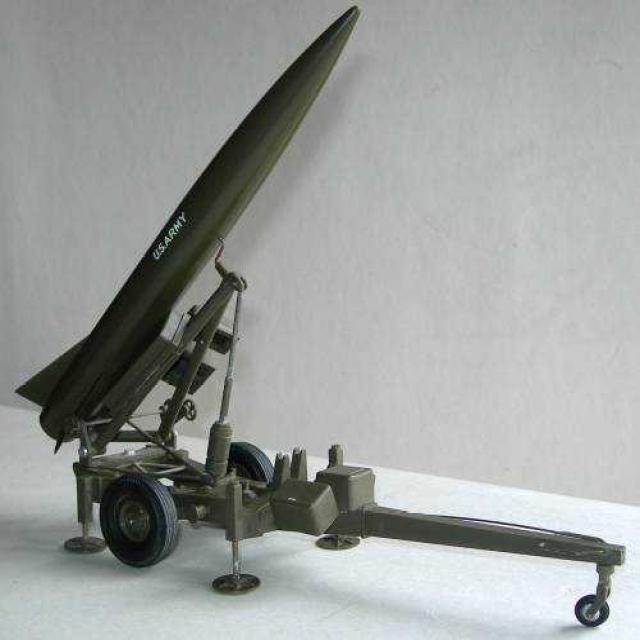missile: (6, 0, 365, 462)
